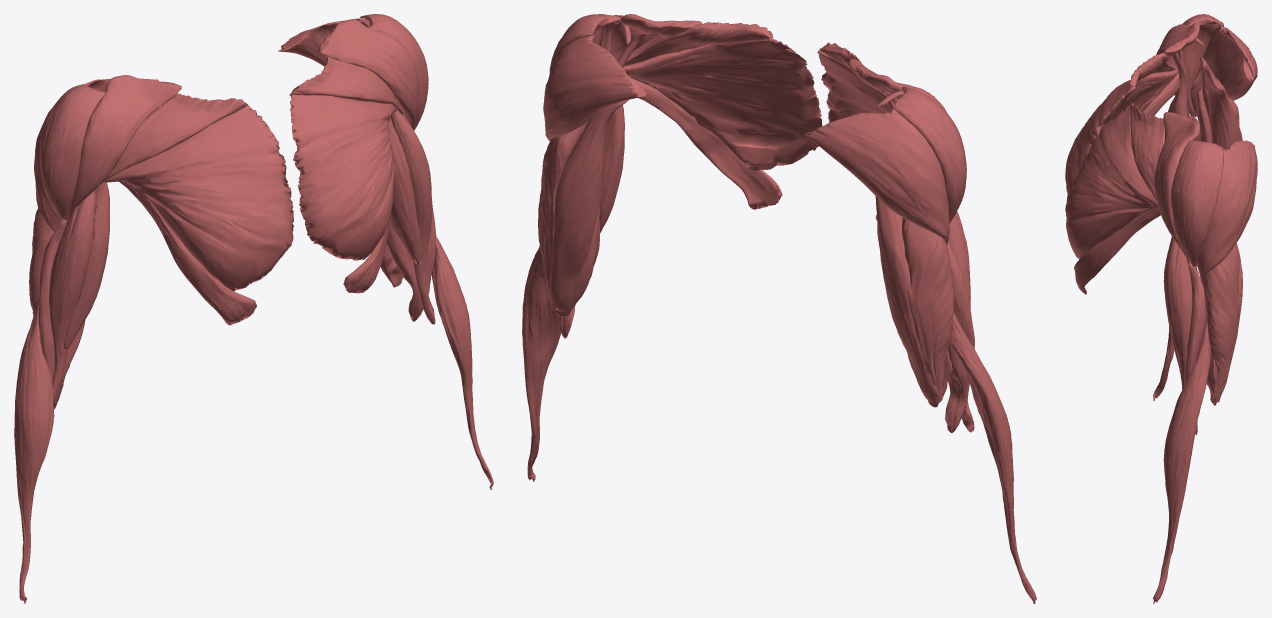
Rendered from muscular-v1.glb.
The picture shows the model from 3 angles, left to right: view 1: azimuth 30°, elevation 25°; view 2: azimuth 150°, elevation 25°; view 3: azimuth 270°, elevation 25°; orthographic projection. The views are drawn at different scales.
Visible parts, largest first — view 1: muscle.pectoralis_major.right.sternocostal, muscle.pectoralis_major.left.sternocostal, muscle.brachioradialis.right, muscle.deltoideus.right.clavicular, muscle.deltoideus.right.acromial, muscle.biceps_brachii.right.long_head, muscle.deltoideus.left.clavicular, muscle.pectoralis_major.right.clavicular, muscle.brachioradialis.left, muscle.pectoralis_major.right.abdominal, muscle.biceps_brachii.left.long_head, muscle.pectoralis_major.left.clavicular (+9 smaller); view 2: muscle.pectoralis_major.left.sternocostal, muscle.deltoideus.right.spinal, muscle.triceps_brachii.left.long_head, muscle.deltoideus.left.spinal, muscle.triceps_brachii.right.lateral_head, muscle.brachioradialis.right, muscle.brachioradialis.left, muscle.triceps_brachii.right.long_head, muscle.deltoideus.right.acromial, muscle.pectoralis_major.left.abdominal, muscle.triceps_brachii.left.lateral_head, muscle.pectoralis_major.left.clavicular (+8 smaller); view 3: muscle.pectoralis_major.left.sternocostal, muscle.brachioradialis.left, muscle.deltoideus.left.acromial, muscle.deltoideus.left.spinal, muscle.triceps_brachii.left.lateral_head, muscle.pectoralis_major.right.sternocostal, muscle.deltoideus.right.spinal, muscle.biceps_brachii.left.long_head, muscle.deltoideus.left.clavicular, muscle.pectoralis_major.left.clavicular, muscle.pectoralis_major.left.abdominal, muscle.triceps_brachii.right.long_head (+11 smaller).
Part boxes in pixels (box(x1,y1,x2,y2)): muscle.pectoralis_major.right.sternocostal: box(102, 105, 294, 291); muscle.pectoralis_major.left.sternocostal: box(289, 93, 397, 260); muscle.brachioradialis.right: box(14, 297, 54, 603); muscle.deltoideus.right.clavicular: box(68, 75, 181, 220); muscle.deltoideus.right.acromial: box(40, 84, 105, 223); muscle.biceps_brachii.right.long_head: box(49, 189, 95, 402); muscle.deltoideus.left.clavicular: box(318, 19, 418, 127); muscle.pectoralis_major.right.clavicular: box(104, 93, 247, 180); muscle.brachioradialis.left: box(431, 236, 493, 489); muscle.pectoralis_major.right.abdominal: box(119, 181, 256, 325); muscle.biceps_brachii.left.long_head: box(390, 111, 435, 324); muscle.pectoralis_major.left.clavicular: box(291, 56, 403, 114); muscle.pectoralis_major.left.sternocostal: box(623, 38, 822, 171); muscle.deltoideus.right.spinal: box(805, 108, 949, 244); muscle.triceps_brachii.left.long_head: box(549, 100, 628, 311); muscle.deltoideus.left.spinal: box(543, 34, 646, 140); muscle.triceps_brachii.right.lateral_head: box(901, 217, 953, 403); muscle.brachioradialis.right: box(950, 312, 1036, 603); muscle.brachioradialis.left: box(522, 246, 560, 481); muscle.triceps_brachii.right.long_head: box(875, 196, 939, 402); muscle.deltoideus.right.acromial: box(893, 86, 966, 223); muscle.pectoralis_major.left.abdominal: box(630, 77, 782, 209); muscle.triceps_brachii.left.lateral_head: box(538, 121, 588, 310); muscle.pectoralis_major.left.clavicular: box(624, 22, 773, 65); muscle.pectoralis_major.left.sternocostal: box(1065, 107, 1158, 259); muscle.brachioradialis.left: box(1153, 319, 1210, 603); muscle.deltoideus.left.acromial: box(1171, 140, 1223, 266); muscle.deltoideus.left.spinal: box(1196, 140, 1257, 280); muscle.triceps_brachii.left.lateral_head: box(1203, 244, 1241, 402); muscle.pectoralis_major.right.sternocostal: box(1065, 69, 1178, 193); muscle.deltoideus.right.spinal: box(1190, 26, 1257, 121); muscle.biceps_brachii.left.long_head: box(1164, 237, 1192, 389); muscle.deltoideus.left.clavicular: box(1154, 112, 1199, 263); muscle.pectoralis_major.left.clavicular: box(1130, 102, 1164, 200); muscle.pectoralis_major.left.abdominal: box(1074, 209, 1160, 294); muscle.triceps_brachii.right.long_head: box(1203, 65, 1242, 149).
Bounding box in the file's own units: 0.561 × 0.5453 × 0.2224.
